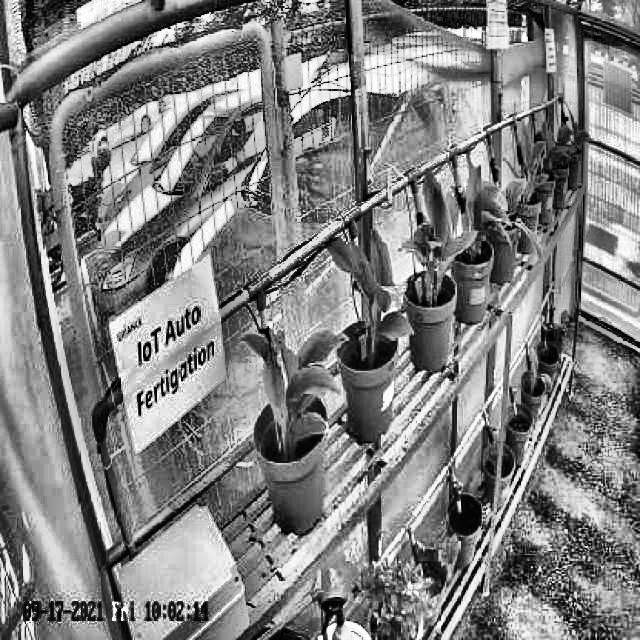plants: (244, 328, 348, 444), (322, 228, 416, 338), (402, 172, 466, 300), (462, 154, 510, 255), (523, 126, 549, 200)
